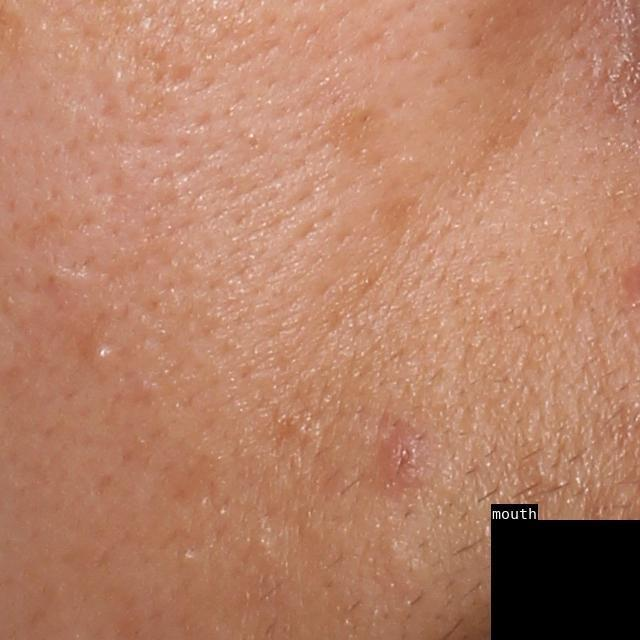papule: (373, 428, 440, 487)
